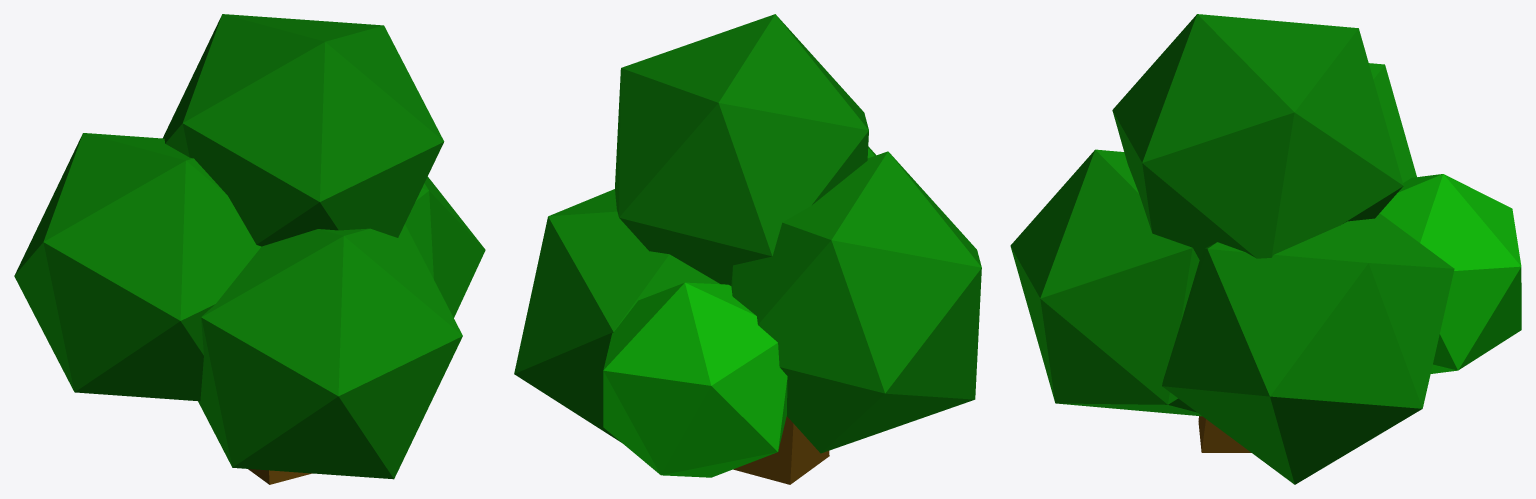
Rendered from livingbush1.fbx.
3 renders of one model, left to right at view 1: azimuth 30°, elevation 25°; view 2: azimuth 150°, elevation 25°; view 3: azimuth 270°, elevation 25°, orthographic.
Visible parts, largest first — view 1: Cube.001; view 2: Cube.001; view 3: Cube.001.
Boxes of the visible parts, box(x1,y1,x2,y2) form: Cube.001: box(14, 14, 485, 484); Cube.001: box(514, 14, 981, 484); Cube.001: box(1010, 14, 1521, 484).
Bounding box in the file's own units: 134 × 125 × 133.
